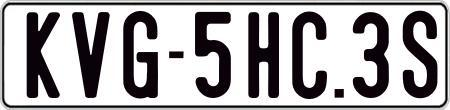3: (350, 12, 392, 98)
5: (195, 11, 235, 98)
C: (290, 9, 326, 96)
G: (121, 11, 162, 102)
H: (246, 12, 283, 98)
K: (25, 12, 62, 102)
S: (403, 8, 432, 99)
V: (70, 11, 112, 103)
